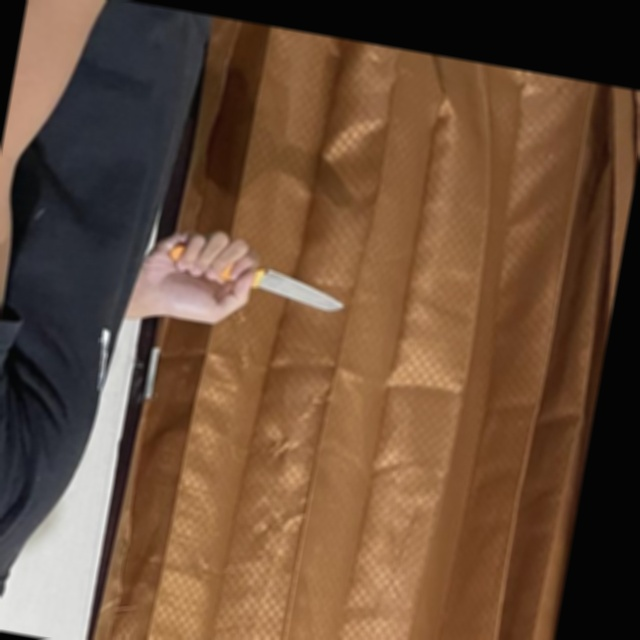Sharp-Object: (164, 239, 352, 317)
